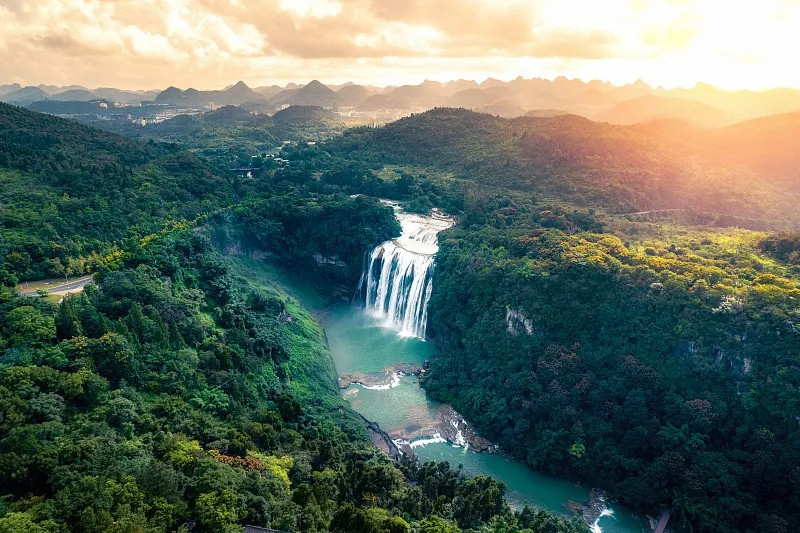Huangguoshu: (353, 213, 440, 340)
